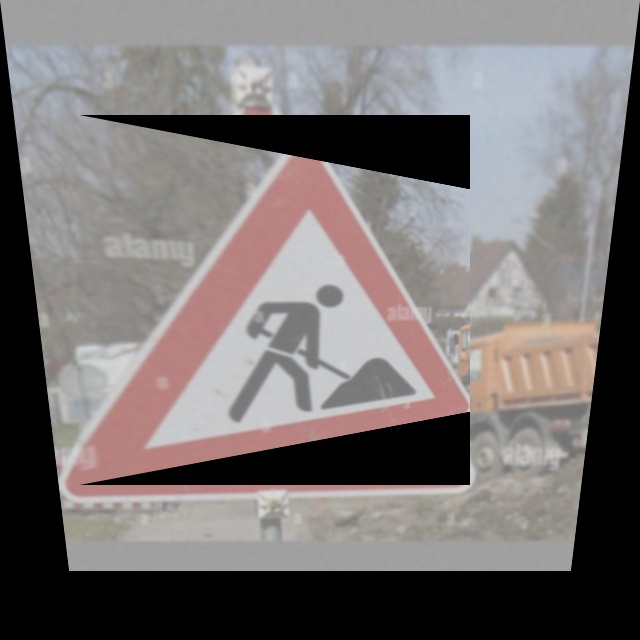Men_at_Work: (79, 115, 470, 485)
